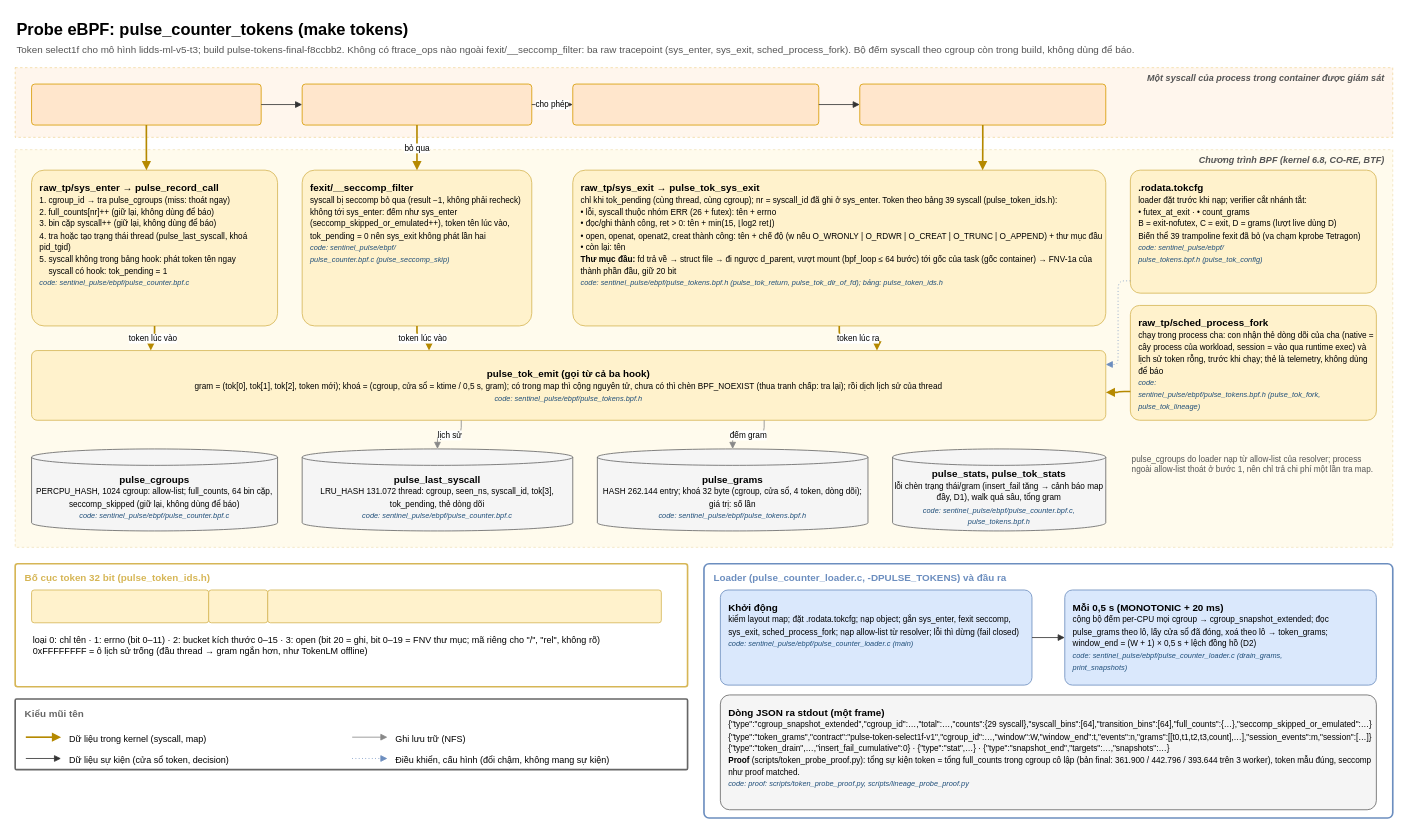
This 1407x832 diagram has some shape labels left out. Here are the shapes that lost their labels. From the top down, the centre of each, then its label:
At point 146,104: "syscall(nr, args) x86_64; mọi thread".
At point 416,104: "seccomp của container SECCOMP_RET_ERRNO → syscall không chạy".
At point 695,104: "thân syscall (__x64_sys_*) ret ≥ 0 hoặc −errno".
At point 982,104: "trở về user space syscall_exit_work".
At point 120,606: "nr syscall (bit 23–31)".
At point 238,606: "loại (21–22)".
At point 464,606: "chi tiết (bit 0–20)".
